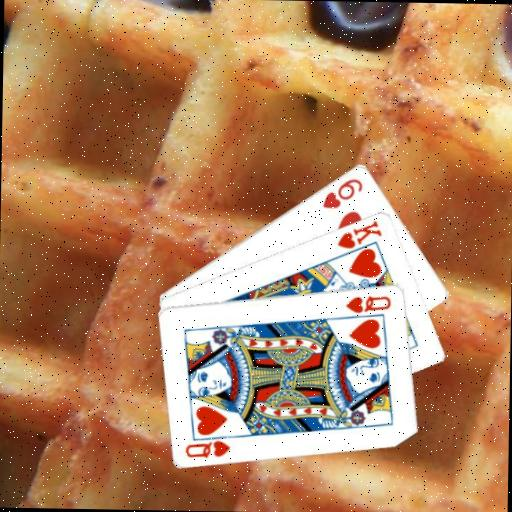6H: (319, 174, 365, 210)
KH: (335, 217, 385, 251)
QH: (182, 431, 237, 460), (343, 292, 393, 316)
